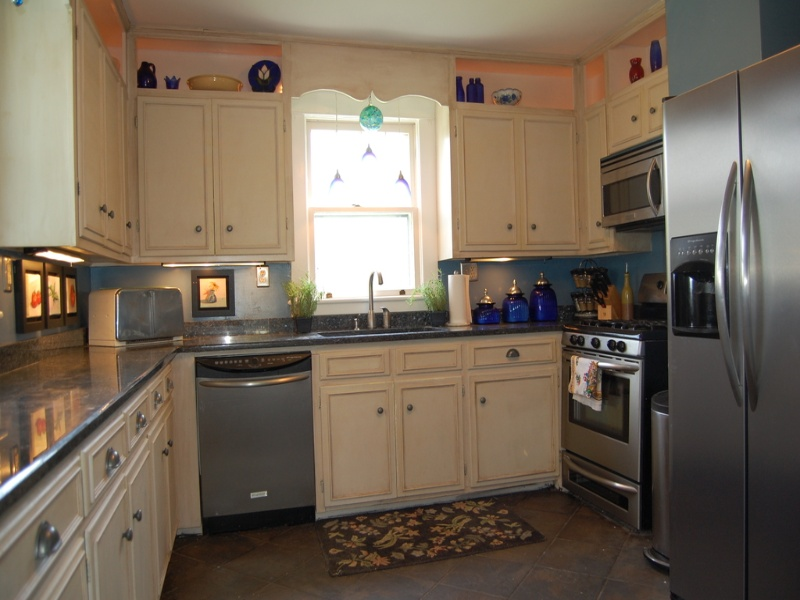oven: (558, 324, 651, 529)
refrigerator: (664, 65, 799, 600)
